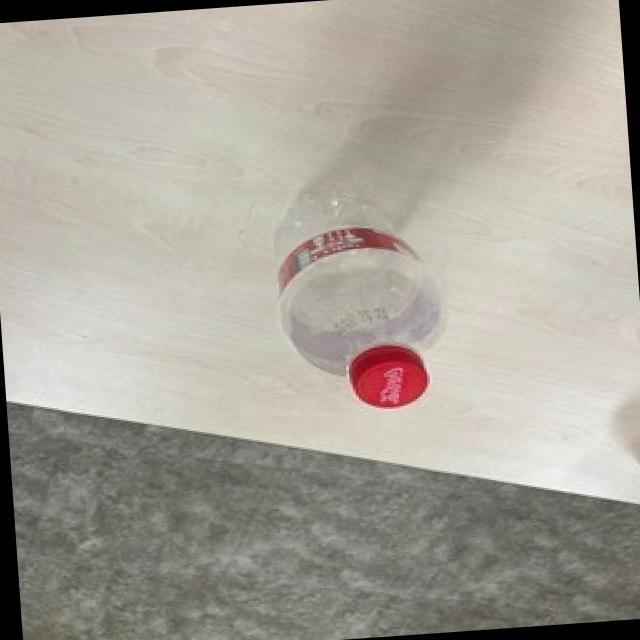good: (266, 157, 458, 419)
